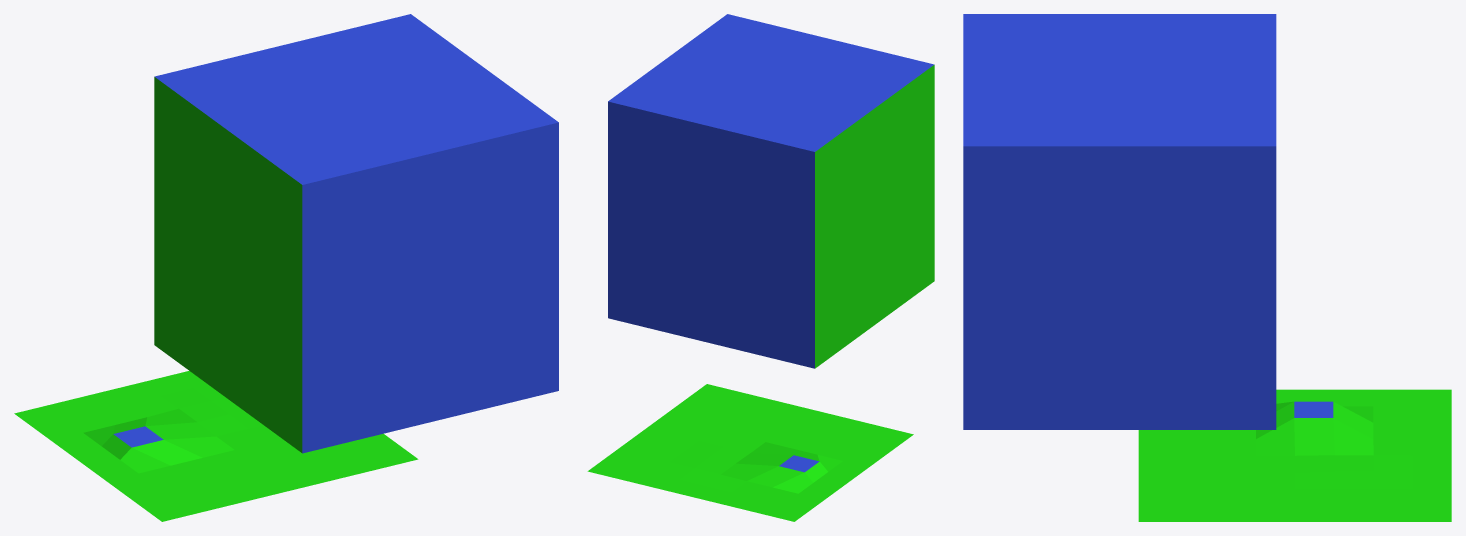
3 renders of one model, left to right at view 1: azimuth 30°, elevation 25°; view 2: azimuth 150°, elevation 25°; view 3: azimuth 270°, elevation 25°, orthographic. The views are drawn at different scales.
Visible parts, largest first — view 1: Cube; view 2: Cube; view 3: Cube.
Part boxes in pixels (x1,y1,x2,y2): Cube: [14, 14, 558, 521]; Cube: [587, 14, 934, 521]; Cube: [963, 14, 1451, 521].
Size of the model in its own units: 2.45 by 2.86 by 3.12.
